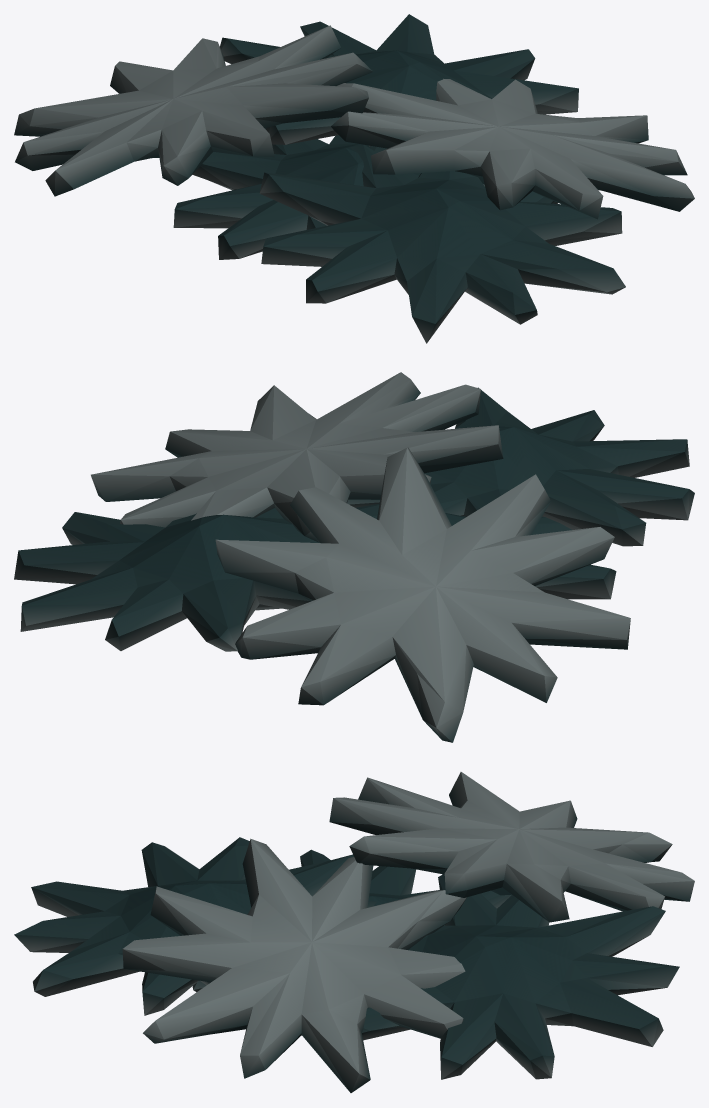
File: SM_Starfish_8.fbx
3 renders of one model, top to bottom at view 1: azimuth 30°, elevation 25°; view 2: azimuth 150°, elevation 25°; view 3: azimuth 270°, elevation 25°, orthographic. The views are drawn at different scales.
Parts seen in each view (by area): view 1: Starfish_8; view 2: Starfish_8; view 3: Starfish_8.
Boxes of the visible parts, bbox=[...] form: Starfish_8: bbox=[14, 14, 694, 343]; Starfish_8: bbox=[14, 372, 694, 742]; Starfish_8: bbox=[14, 772, 694, 1092].
Size of the model in its own units: 42.49 by 8.95 by 46.21.
